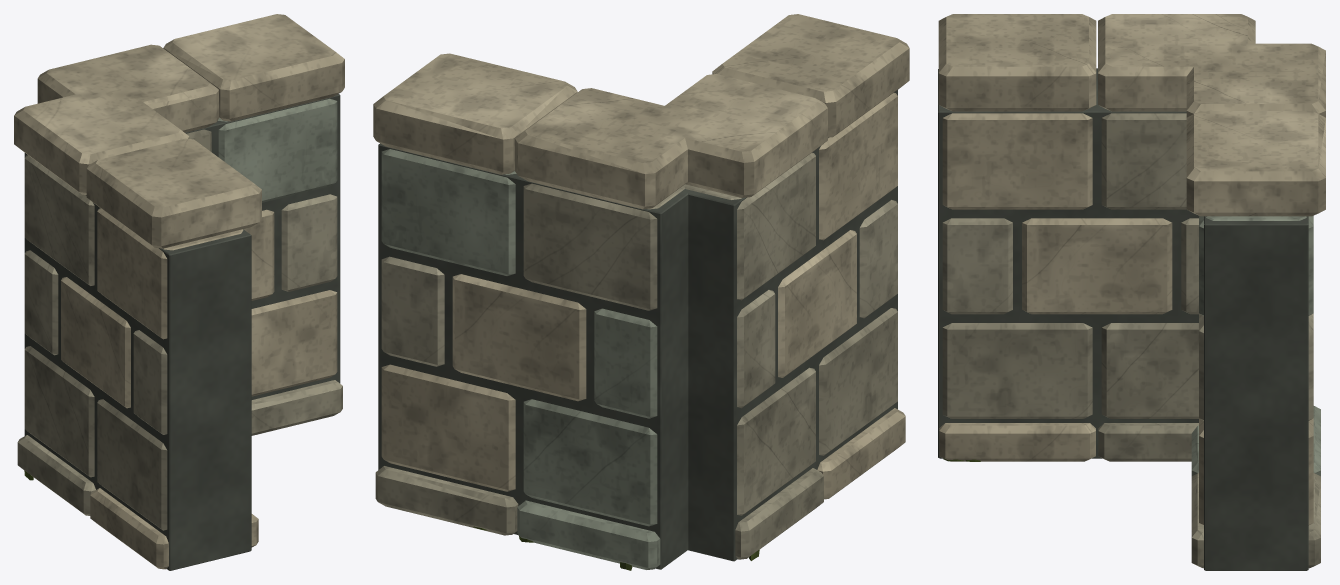
File: b05_corner.fbx
The picture shows the model from 3 angles, left to right: view 1: azimuth 30°, elevation 25°; view 2: azimuth 150°, elevation 25°; view 3: azimuth 270°, elevation 25°; orthographic projection. The views are drawn at different scales.
Parts seen in each view (by area): view 1: b05_corner; view 2: b05_corner; view 3: b05_corner.
Boxes of the visible parts, x1,y1,x2,y2 form: b05_corner: (14,14,344,570); b05_corner: (373,14,909,570); b05_corner: (938,14,1325,570).
Size of the model in its own units: 15600 by 15600 by 17783.
